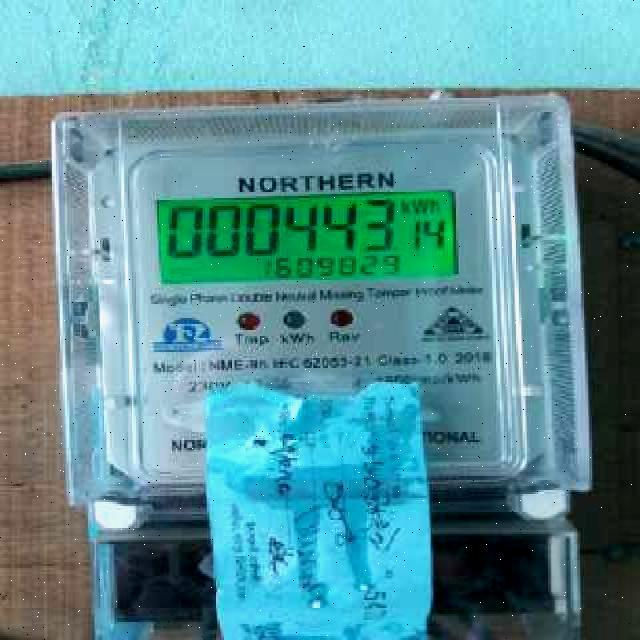LCD: (149, 189, 477, 285)
